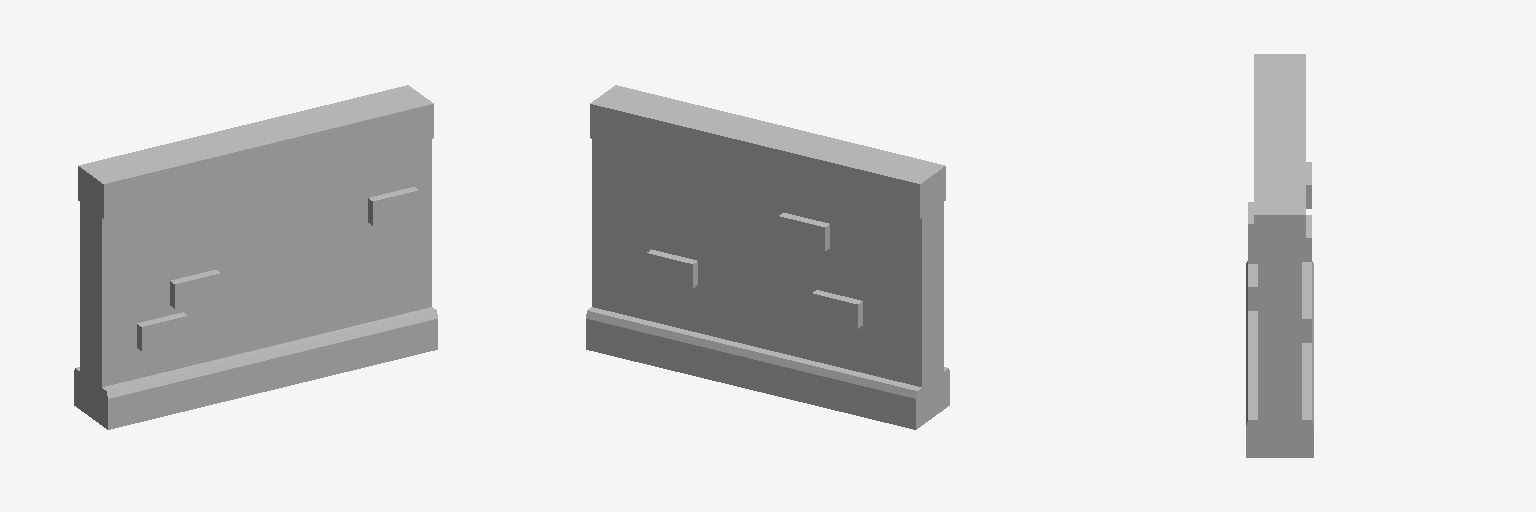
The model's file is brickwall.obj.
3 renders of one model, left to right at view 1: azimuth 30°, elevation 25°; view 2: azimuth 150°, elevation 25°; view 3: azimuth 270°, elevation 25°, orthographic.
Visible parts, largest first — view 1: brick-wall; view 2: brick-wall; view 3: brick-wall.
Part boxes in pixels (left/top/right/bottom): brick-wall: left=74, top=85, right=437, bottom=429; brick-wall: left=586, top=85, right=949, bottom=429; brick-wall: left=1246, top=54, right=1313, bottom=457.
Bounding box in the file's own units: 1 × 0.7019 × 0.18.